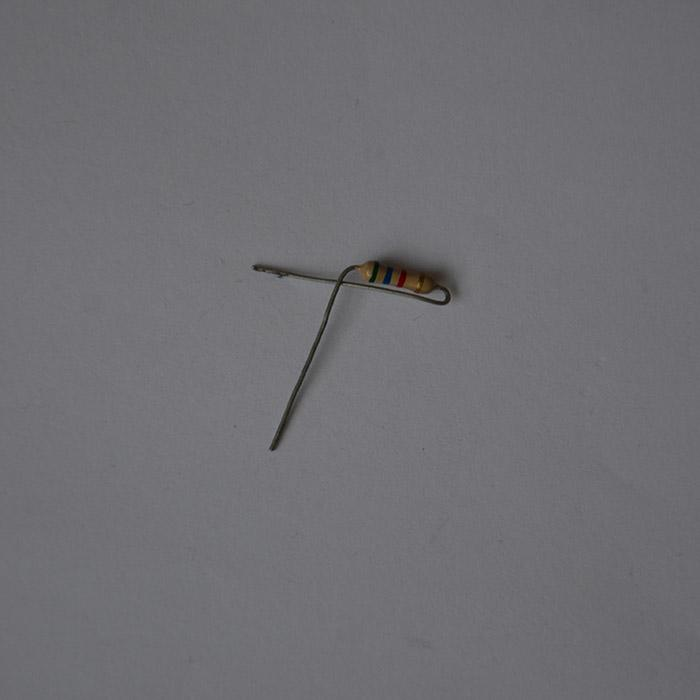resistor: (356, 260, 434, 292)
